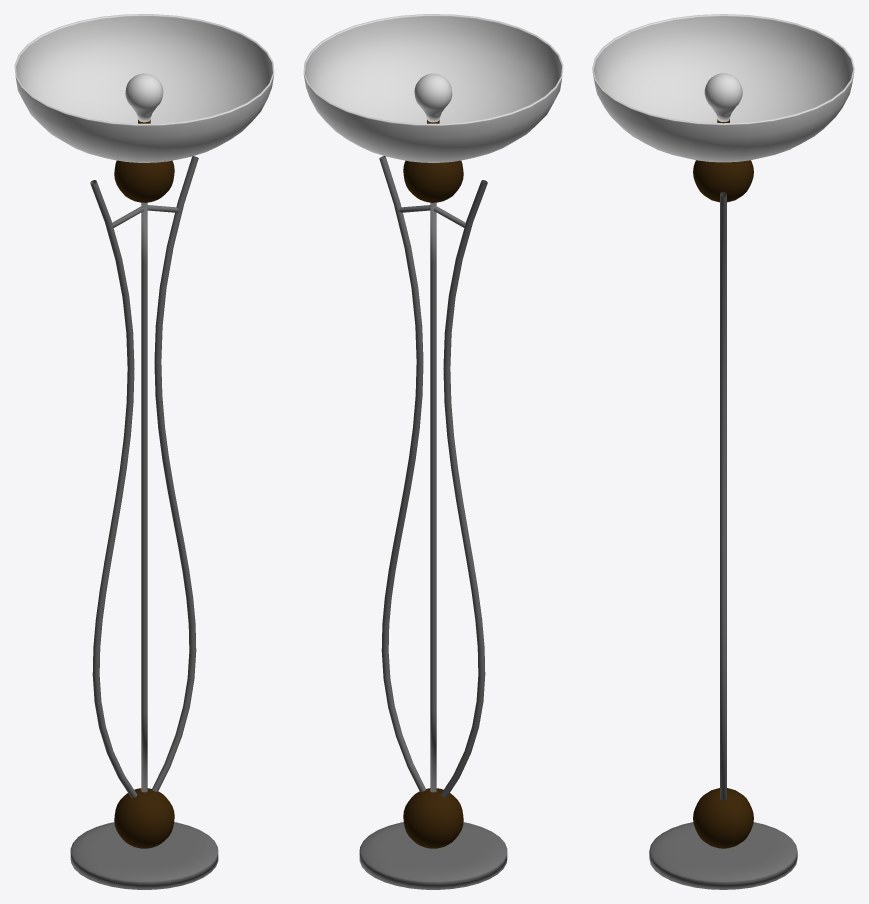
The model's file is piantane 2.fbx.
3 renders of one model, left to right at view 1: azimuth 30°, elevation 25°; view 2: azimuth 150°, elevation 25°; view 3: azimuth 270°, elevation 25°, orthographic.
Visible parts, largest first — view 1: piantanaNew.001; view 2: piantanaNew.001; view 3: piantanaNew.001.
Boxes of the visible parts, x1,y1,x2,y2 form: piantanaNew.001: [14, 14, 274, 889]; piantanaNew.001: [303, 14, 563, 889]; piantanaNew.001: [592, 14, 854, 889].
Bounding box in the file's own units: 59.61 × 200 × 60.27.
